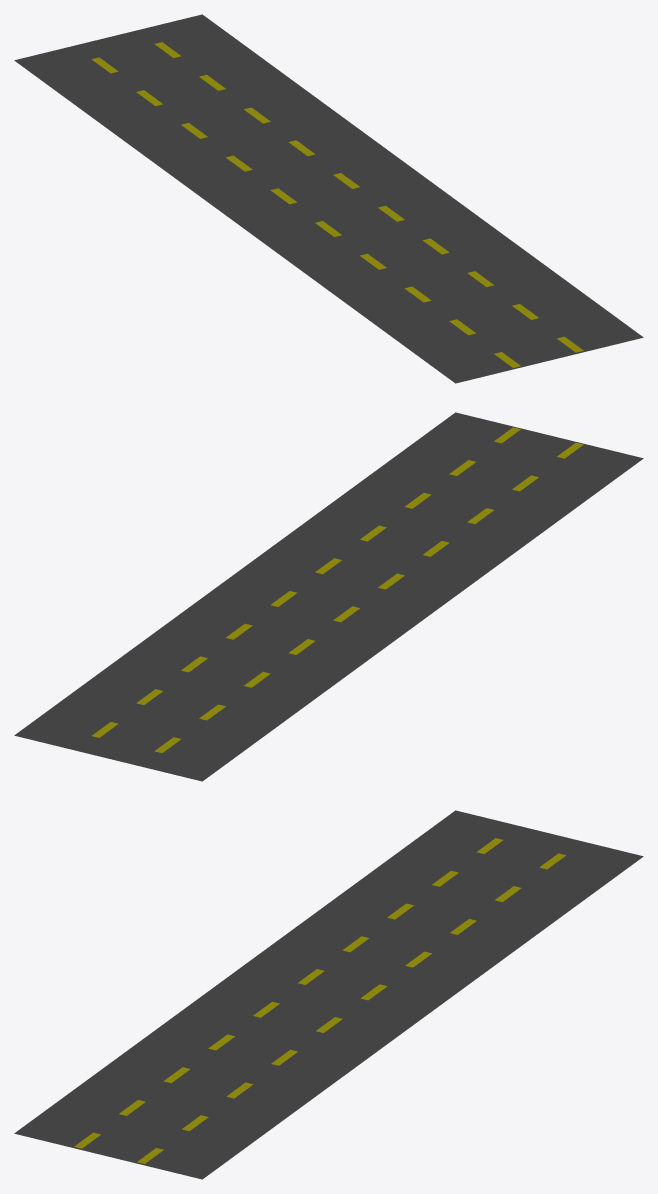
Rendered from road.fbx.
3 renders of one model, top to bottom at view 1: azimuth 30°, elevation 25°; view 2: azimuth 150°, elevation 25°; view 3: azimuth 330°, elevation 25°, orthographic.
Parts seen in each view (by area): view 1: Plane.002, Plane, Plane.001, Plane.003, Plane.004; view 2: Plane.002, Plane, Plane.001, Plane.003, Plane.004; view 3: Plane, Plane.002, Plane.001, Plane.004, Plane.003.
Part boxes in pixels (x1,y1,x2,y2): Plane.002: [14, 45, 517, 383]; Plane: [140, 14, 643, 352]; Plane.001: [77, 30, 580, 367]; Plane.003: [154, 42, 583, 352]; Plane.004: [92, 57, 520, 367]; Plane.002: [140, 443, 643, 781]; Plane: [14, 412, 517, 750]; Plane.001: [77, 428, 580, 765]; Plane.003: [92, 427, 520, 737]; Plane.004: [154, 442, 583, 752]; Plane: [140, 841, 643, 1179]; Plane.002: [14, 810, 517, 1148]; Plane.001: [77, 826, 580, 1163]; Plane.004: [74, 838, 503, 1148]; Plane.003: [137, 853, 565, 1163].
Bounding box in the file's own units: 600 × 1 × 2435.
